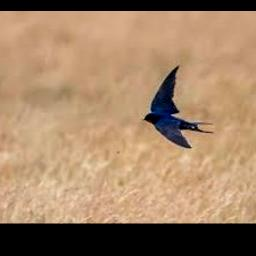Swallow: (143, 65, 213, 147)
